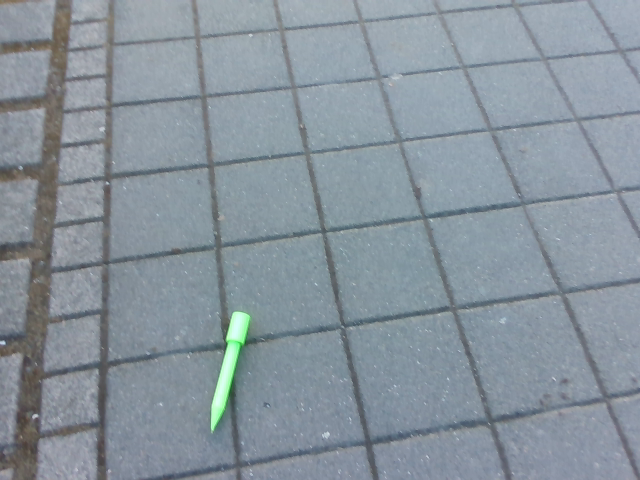Probe: (209, 304, 254, 439)
